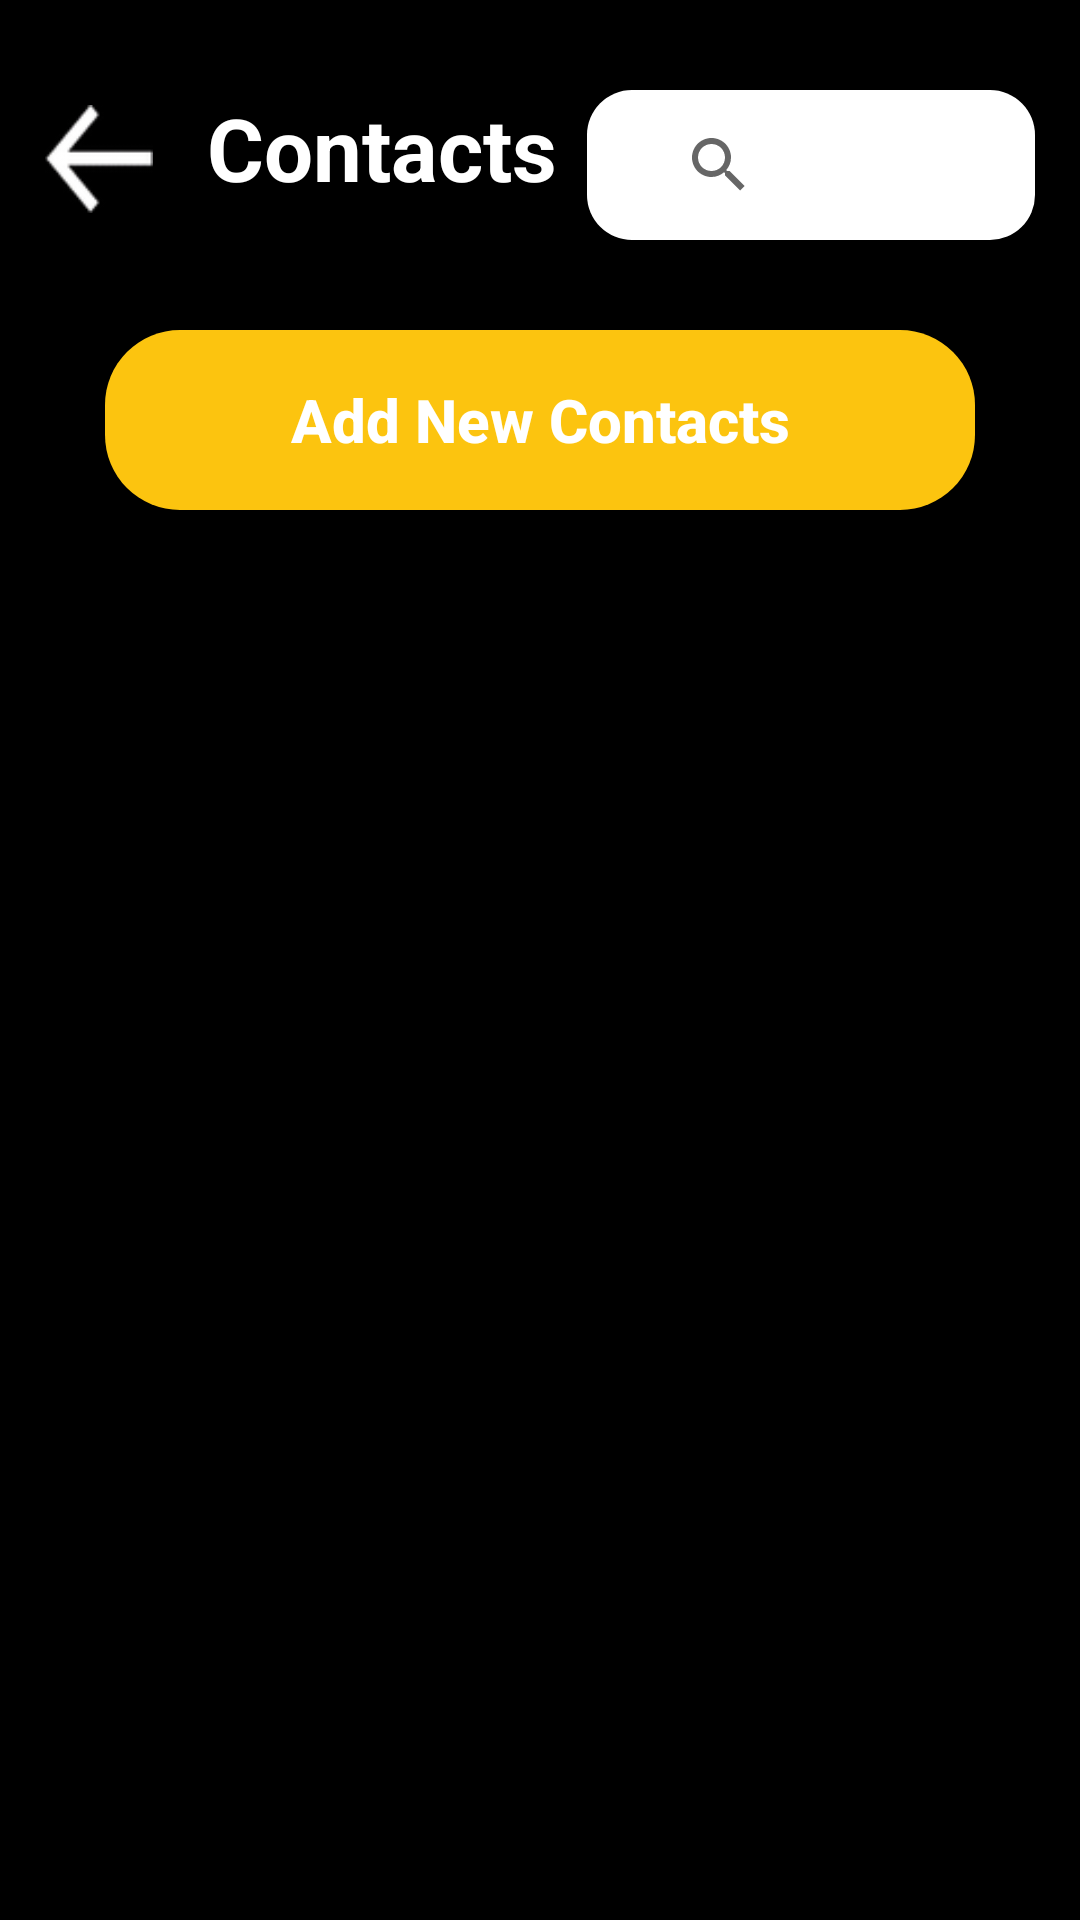

Screen size 1080w x 1920h. Icon name, then its center in pixels as (x,y):
backarrow page: (99,159)
